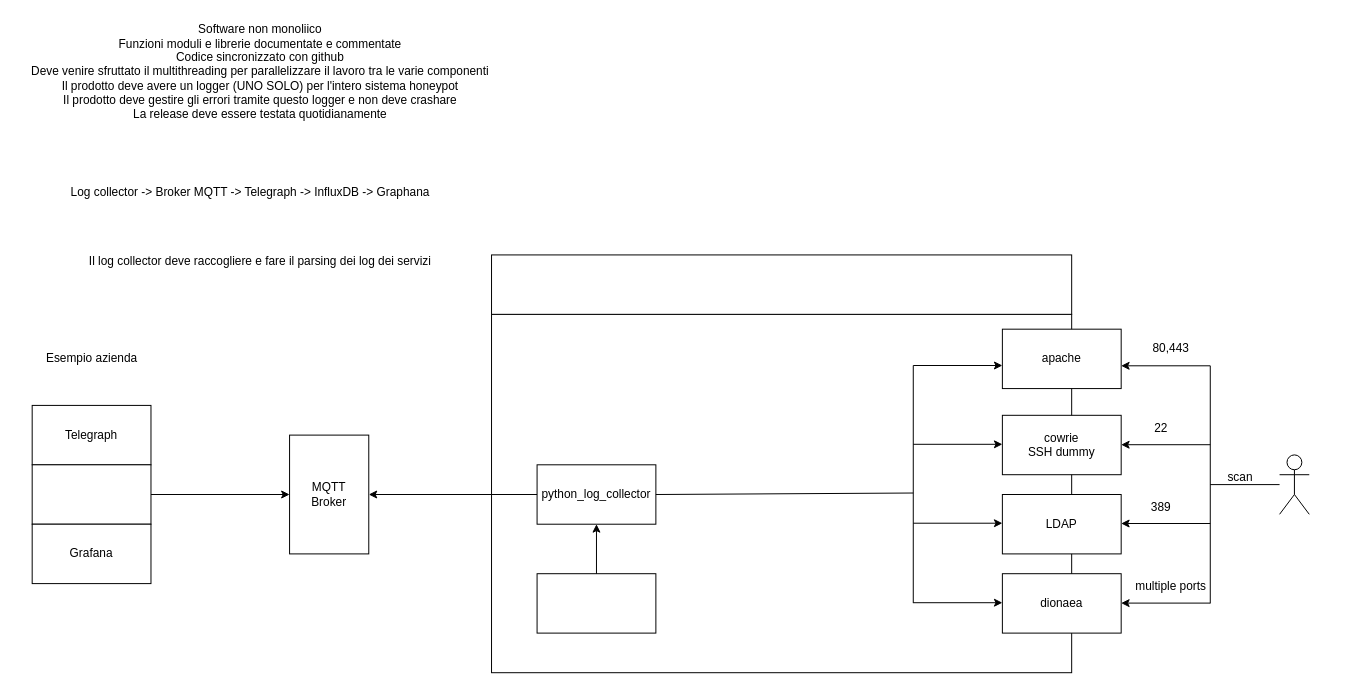
This 1350x690 diagram has some shape labels left out. The centre of each missing label's shape, as x and y in pixels:
"bash_history" goes at (596,603).
"Honeypot Linux" goes at (781,284).
"InfluxDB" goes at (91,494).
"Malicious User" goes at (1294,484).
